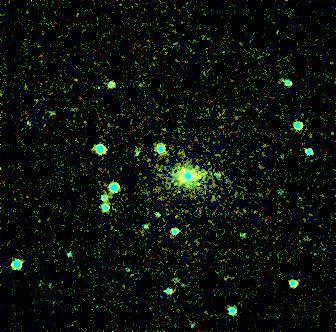star: (172, 271, 202, 301)
